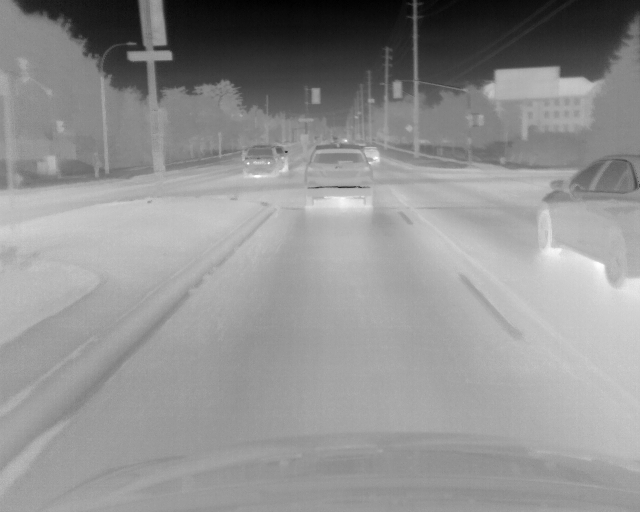car: (534, 152, 640, 290), (303, 143, 374, 208), (244, 145, 279, 177), (277, 146, 288, 172), (363, 146, 379, 163)
